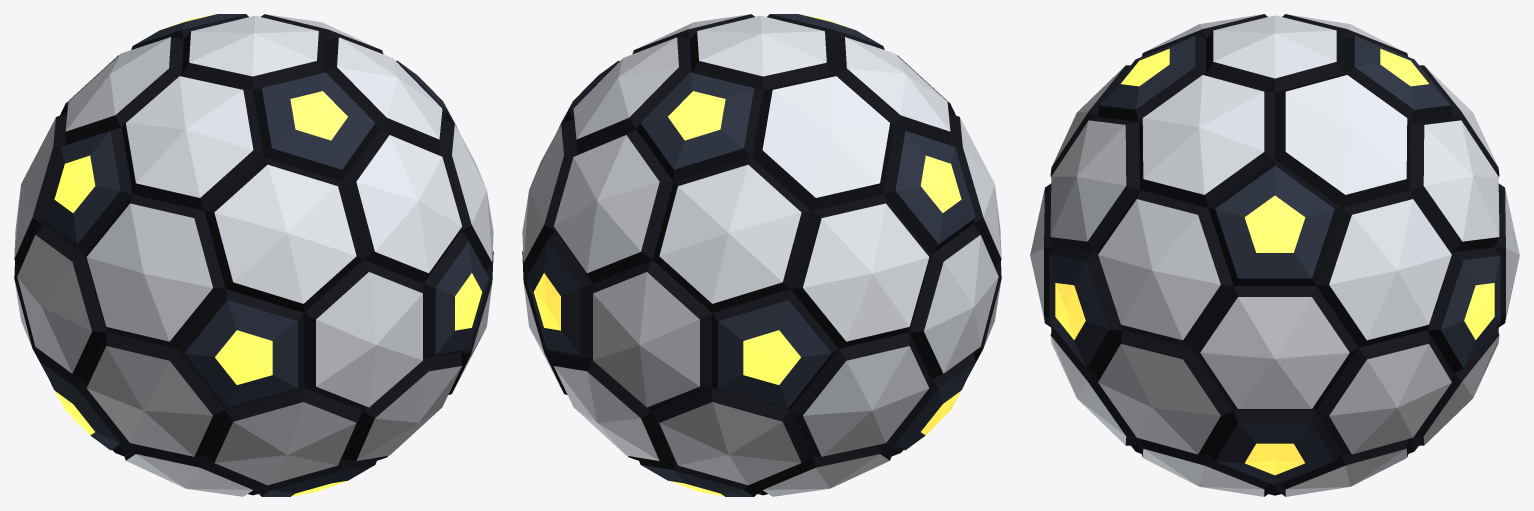
The model's file is ball.glb.
3 views of the same model, side by side, from view 1: azimuth 30°, elevation 25°; view 2: azimuth 150°, elevation 25°; view 3: azimuth 270°, elevation 25° (orthographic).
Parts seen in each view (by area): view 1: Ball; view 2: Ball; view 3: Ball.
Boxes of the visible parts, left/top/right/bottom form: Ball: left=14, top=14, right=493, bottom=496; Ball: left=522, top=14, right=1001, bottom=496; Ball: left=1030, top=14, right=1519, bottom=496.
Bounding box in the file's own units: 1.86 × 1.86 × 1.86.
